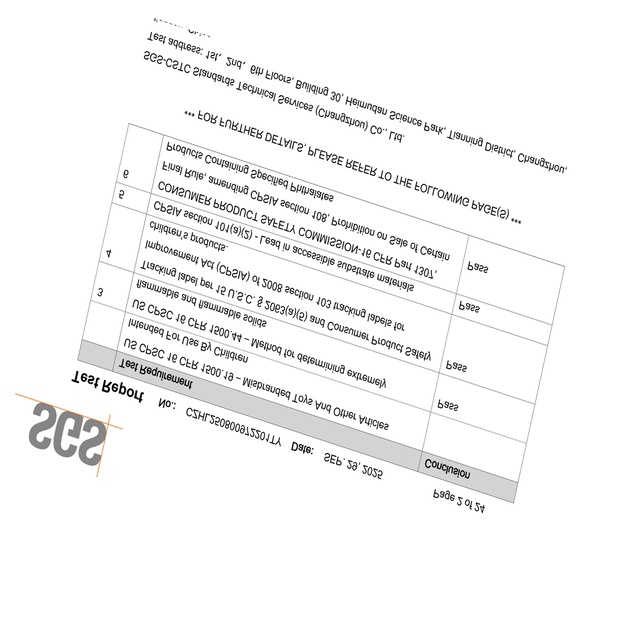sgs: (28, 401, 106, 467)
